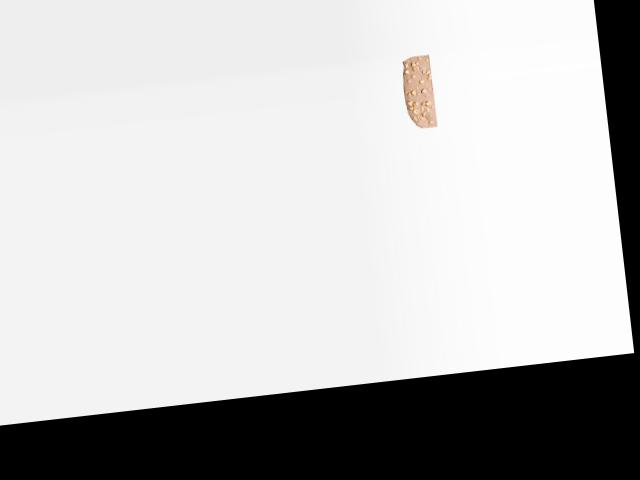chocolate: (394, 54, 440, 130)
